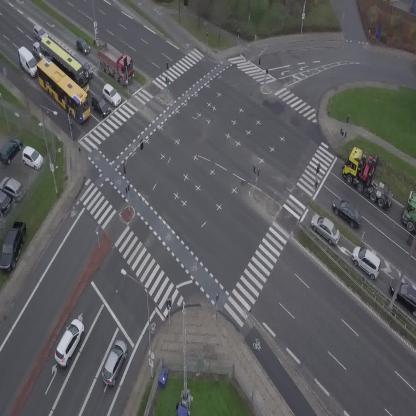bus: (29, 54, 100, 124), (33, 34, 99, 93)
car: (51, 316, 88, 368), (98, 337, 132, 388), (345, 243, 387, 281), (327, 194, 368, 230), (306, 210, 345, 247), (98, 82, 124, 108), (87, 92, 112, 119), (75, 53, 95, 79), (71, 35, 93, 58), (29, 22, 47, 41), (31, 41, 39, 59)
lorry: (334, 142, 410, 211), (88, 37, 142, 88), (11, 44, 42, 80), (402, 193, 416, 232)
